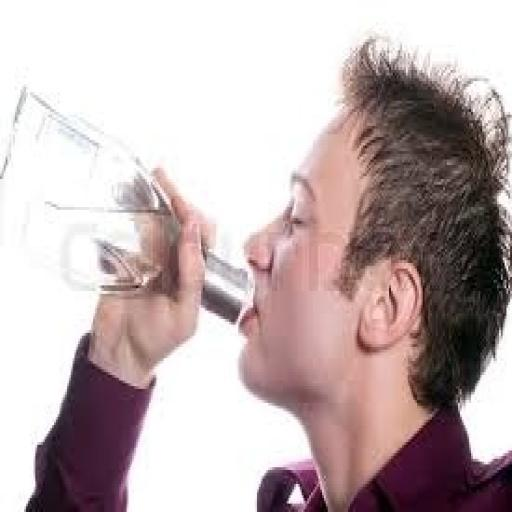drinking: (0, 81, 253, 327)
